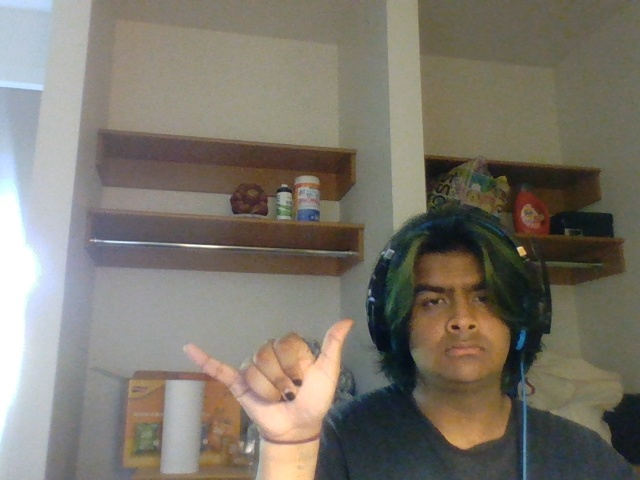y: (176, 315, 359, 435)
